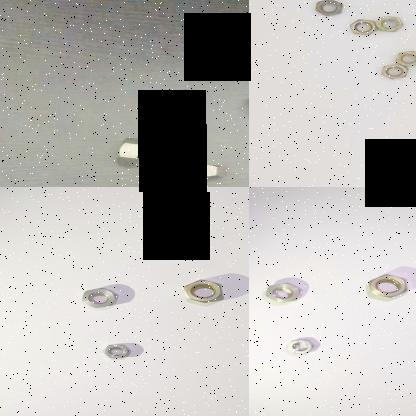NUTS: (160, 86, 200, 138), (172, 160, 230, 182), (364, 272, 412, 298), (180, 277, 226, 304), (112, 136, 145, 171), (78, 286, 119, 310), (263, 281, 304, 305), (376, 62, 408, 82), (373, 13, 405, 32), (312, 0, 346, 16), (346, 19, 378, 36), (102, 343, 132, 361), (284, 338, 314, 354), (391, 48, 416, 67)
